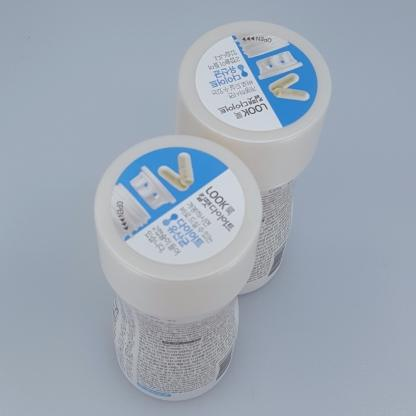------LOOK------170ML: (94, 134, 262, 401), (178, 21, 331, 296)
